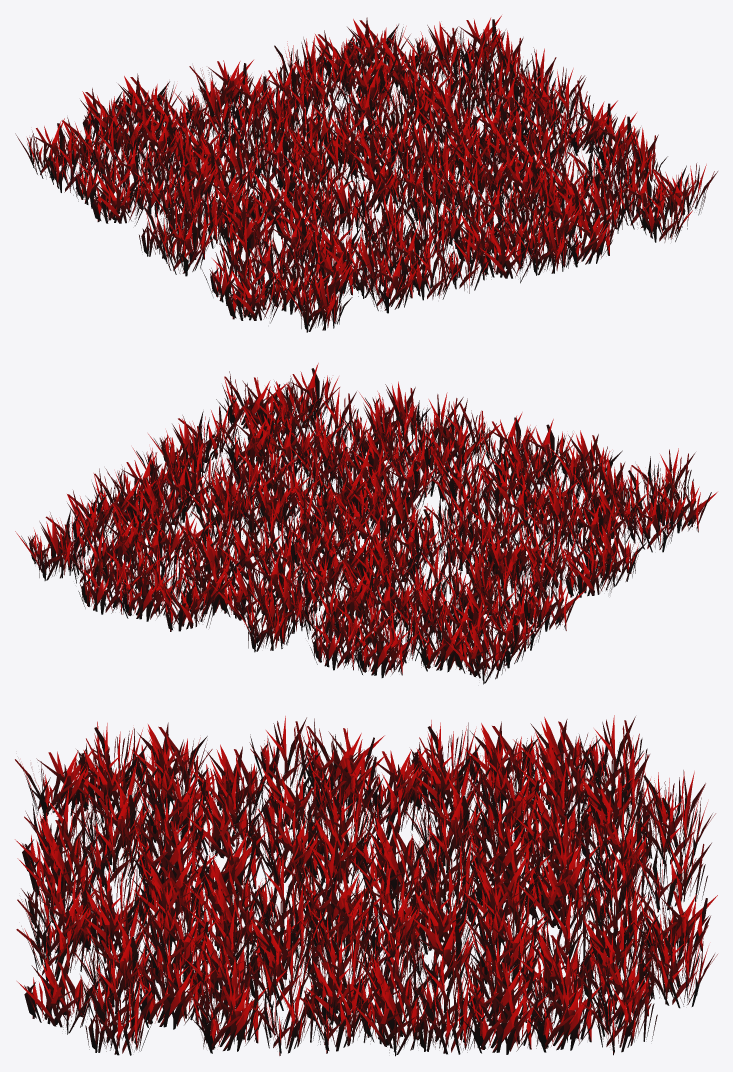
Rendered from SM_grassL_LOD1.FBX.
3 views of the same model, one above another, from view 1: azimuth 30°, elevation 25°; view 2: azimuth 150°, elevation 25°; view 3: azimuth 270°, elevation 25° (orthographic). The views are drawn at different scales.
Parts seen in each view (by area): view 1: SM_grassL_LOD1; view 2: SM_grassL_LOD1; view 3: SM_grassL_LOD1.
Boxes of the visible parts, bbox=[...] form: SM_grassL_LOD1: bbox=[15, 15, 717, 332]; SM_grassL_LOD1: bbox=[15, 363, 717, 684]; SM_grassL_LOD1: bbox=[15, 715, 717, 1056].
Size of the model in its own units: 1159 by 106 by 1154.
